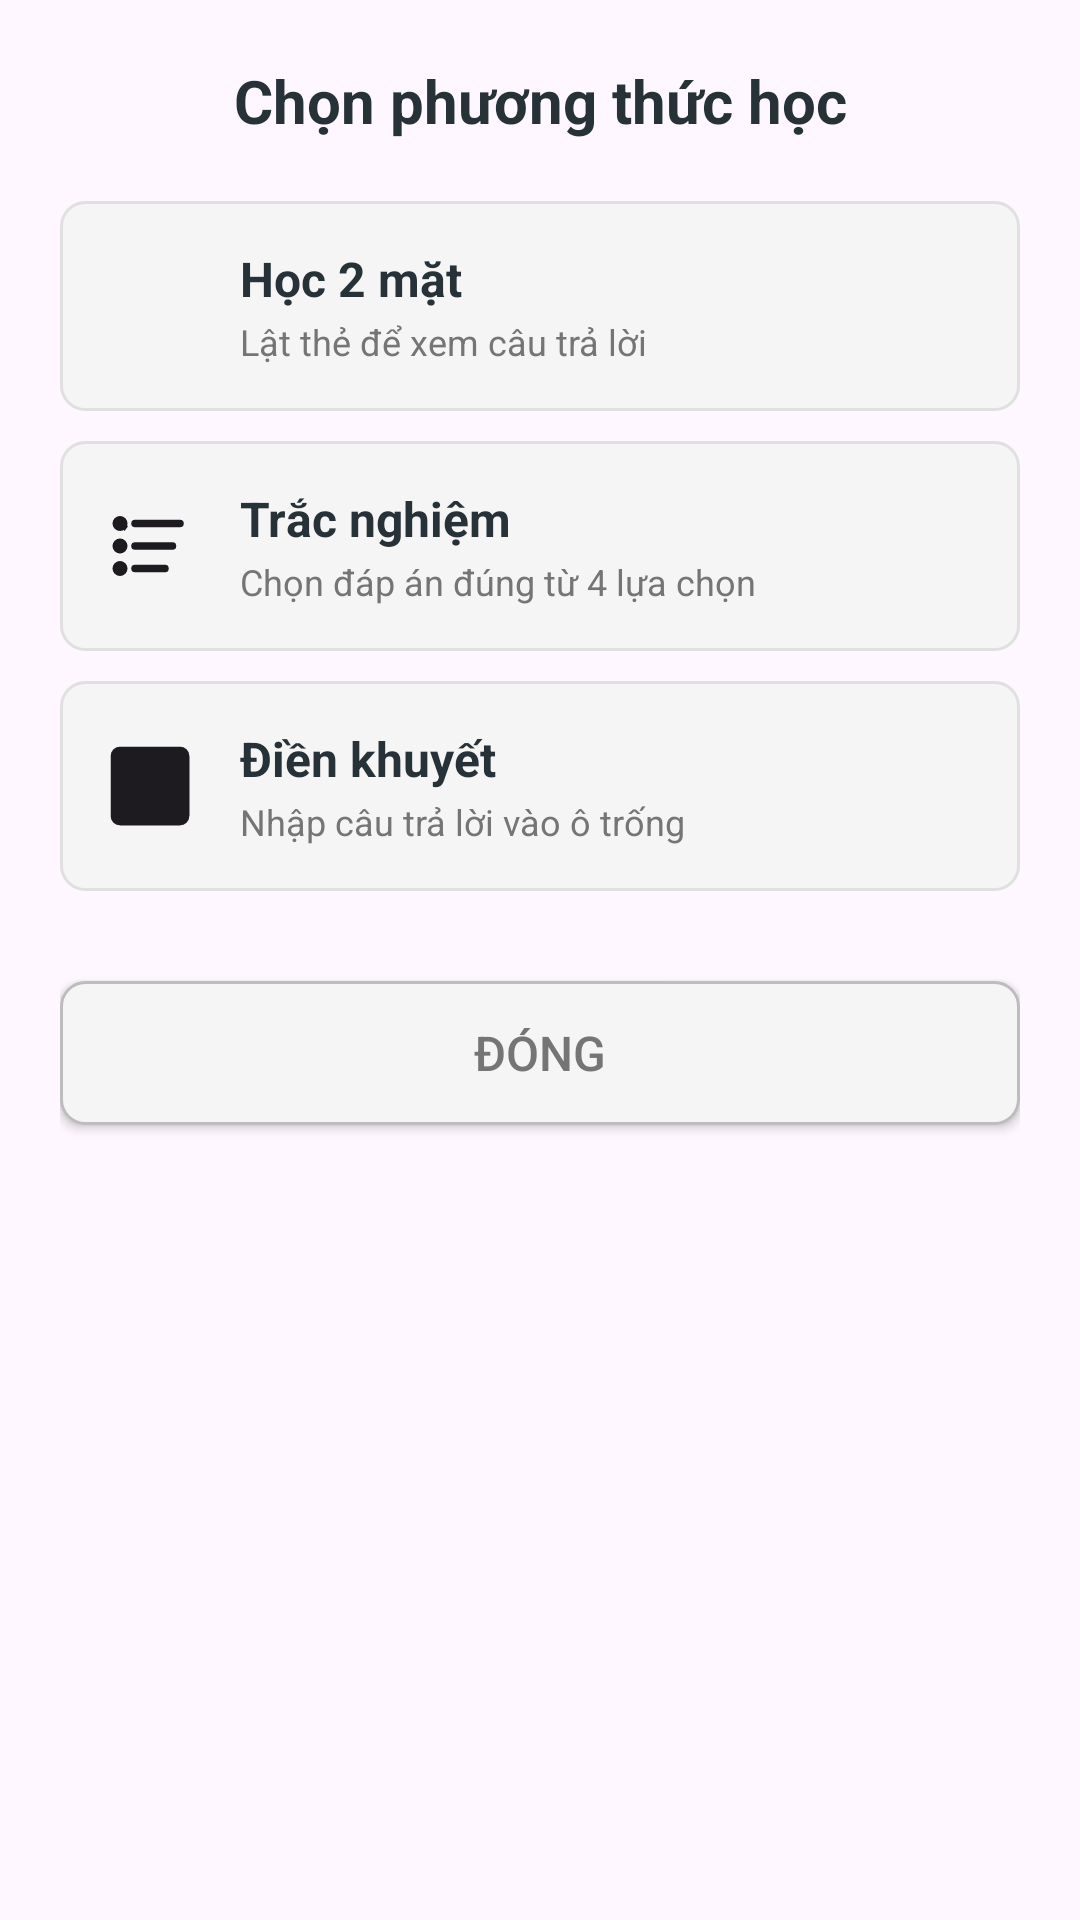

Named icons in this screenshot (1080px x 1920px) and their centers, [x,y]:
multiple choice: [148,546]
